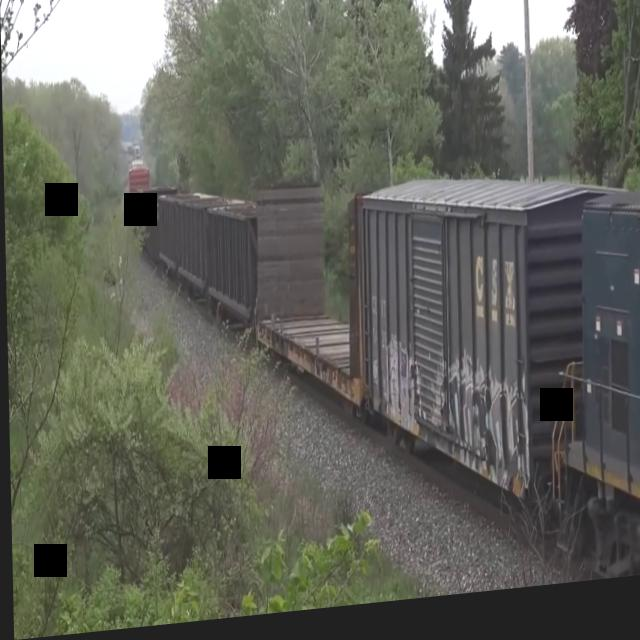boxcar: (356, 165, 611, 534)
flatcar_bulkhead: (250, 178, 362, 437)
gondola: (203, 198, 255, 345)
locomotive: (541, 187, 640, 596)
